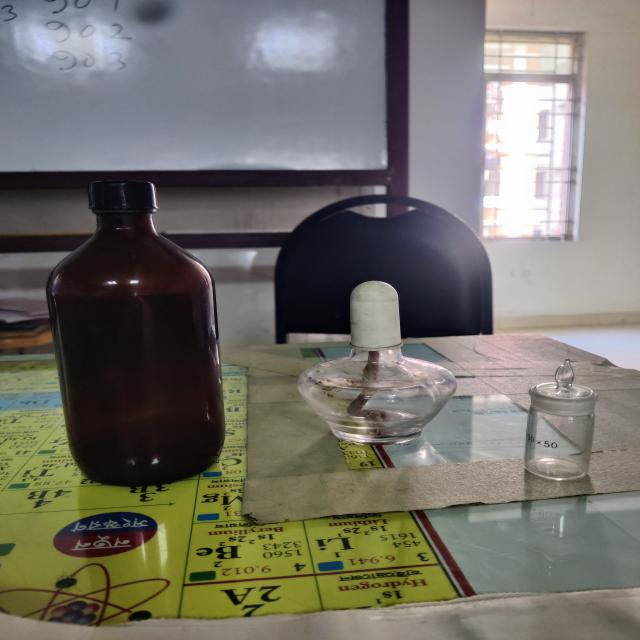Nessler_Reagent_Bottle: (18, 165, 251, 532)
Spirit_Lamp: (276, 261, 480, 494)
Weighing_Bottle: (504, 338, 620, 532)
